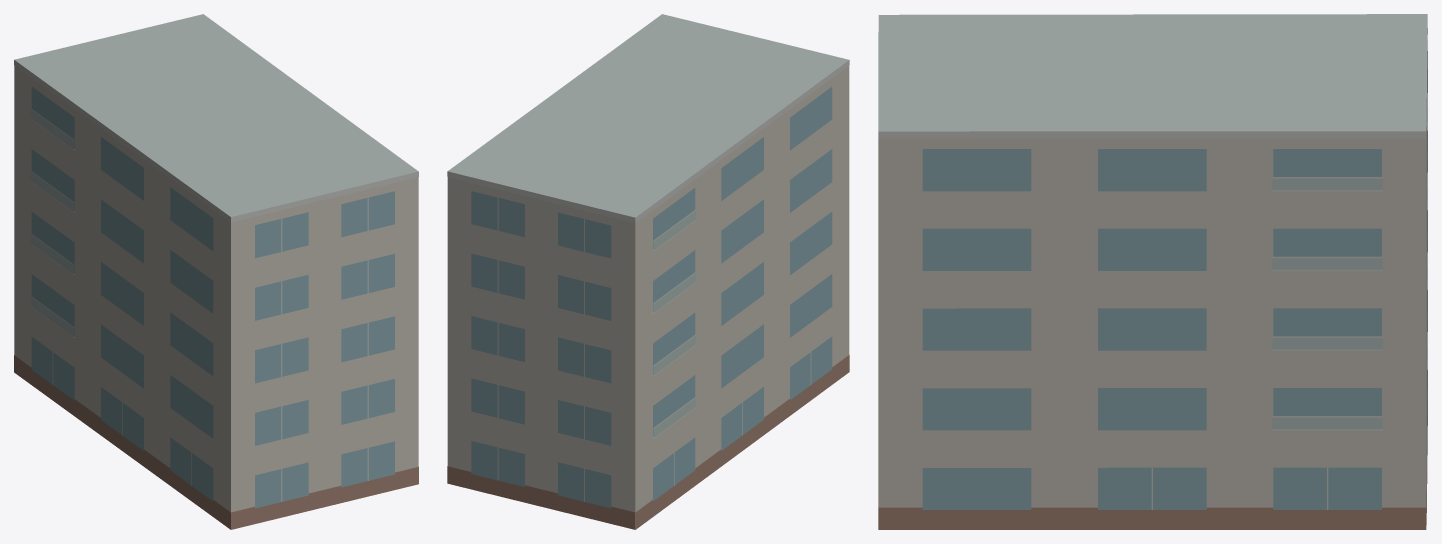
The model's file is survey-upis-32822159.glb.
3 renders of one model, left to right at view 1: azimuth 30°, elevation 25°; view 2: azimuth 150°, elevation 25°; view 3: azimuth 270°, elevation 25°, orthographic. The views are drawn at different scales.
Parts seen in each view (by area): view 1: survey-upis-32822159.tmp; view 2: survey-upis-32822159.tmp; view 3: survey-upis-32822159.tmp.
Part boxes in pixels (left/top/right/bottom): survey-upis-32822159.tmp: left=14, top=14, right=418, bottom=529; survey-upis-32822159.tmp: left=447, top=14, right=849, bottom=529; survey-upis-32822159.tmp: left=878, top=14, right=1427, bottom=529.
Size of the model in its own units: 8.86 by 13.9 by 17.39.
